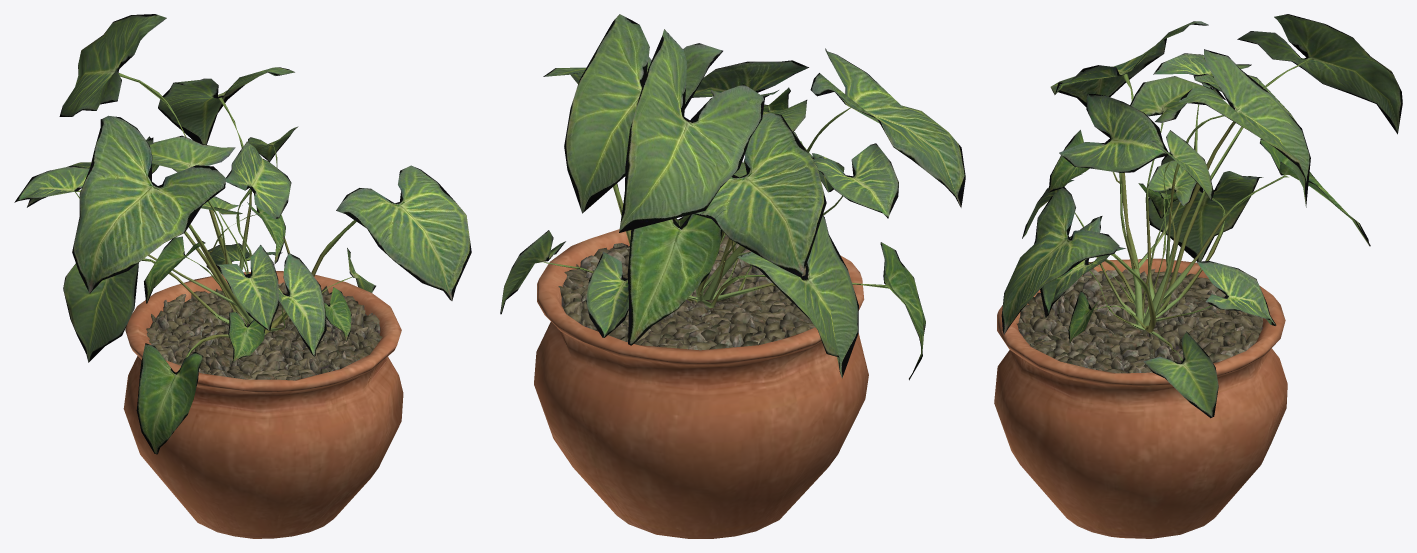
The model's file is potted_plant_02.gltf.
3 renders of one model, left to right at view 1: azimuth 30°, elevation 25°; view 2: azimuth 150°, elevation 25°; view 3: azimuth 270°, elevation 25°, orthographic. The views are drawn at different scales.
Size of the model in its own units: 0.6989 by 0.8378 by 0.6553.
2 materials, 2 textured.
